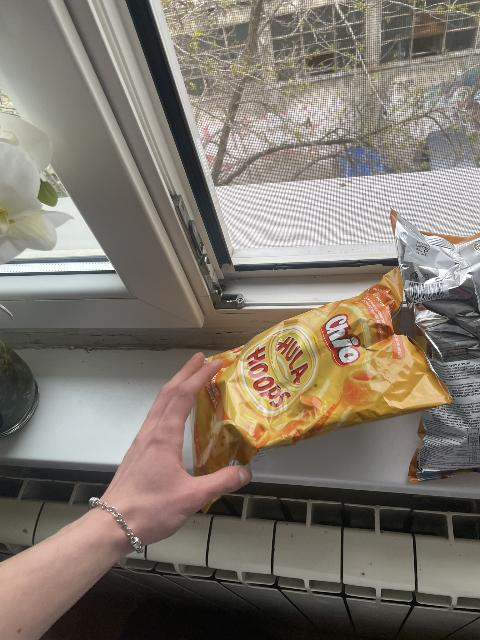Chio Cascaval 125g: (385, 201, 480, 487)
Chio Hula Hoops Cheese 70g: (189, 263, 455, 497)
